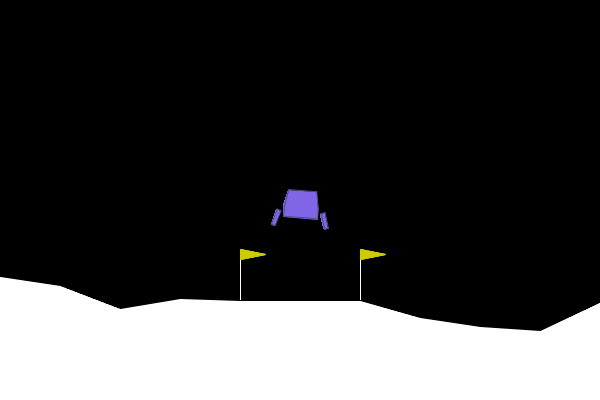lander: (269, 187, 332, 231)
